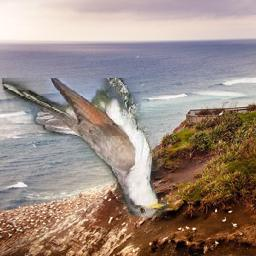Cuckoo: (3, 79, 168, 218)
